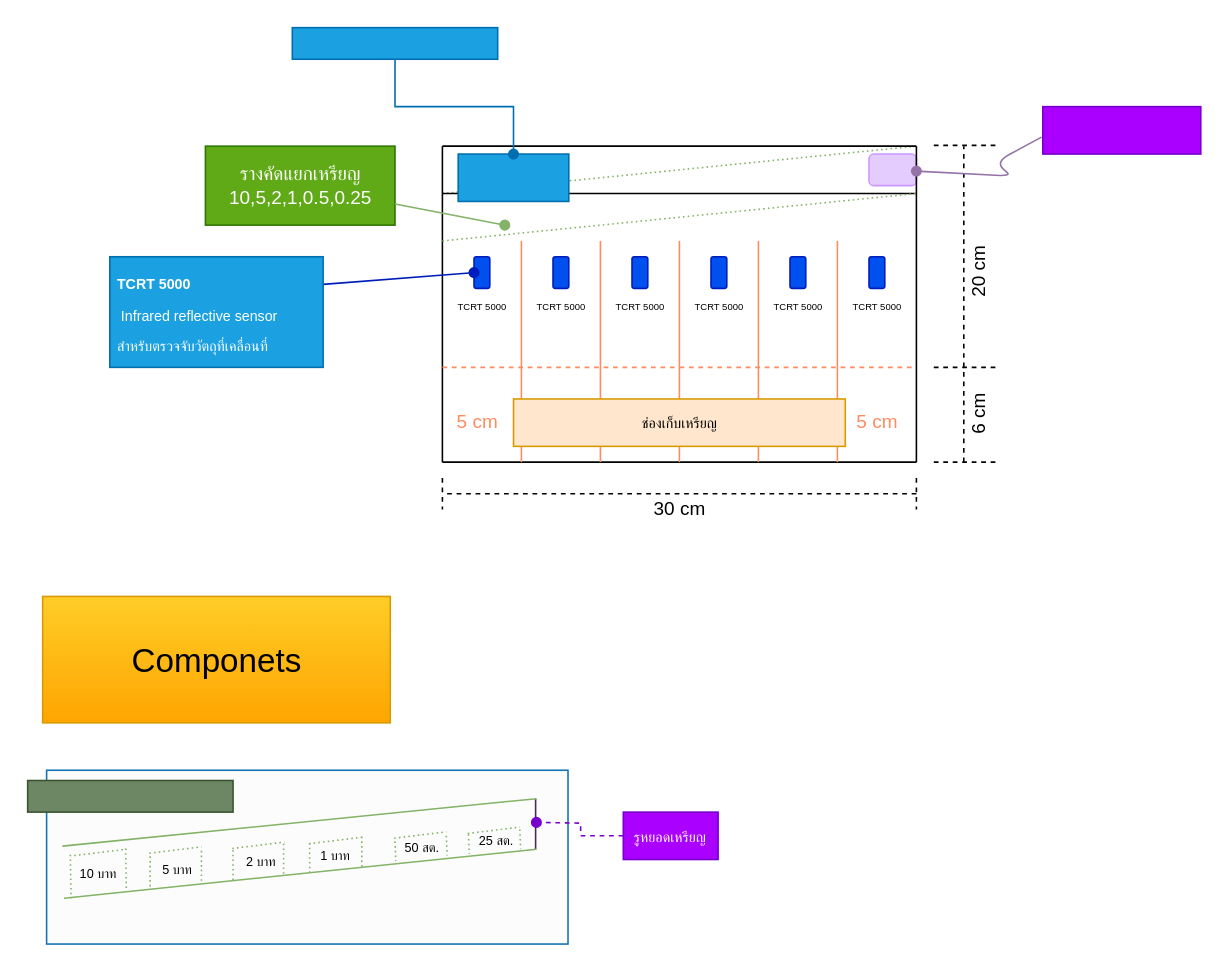
Some shapes in this 1229 by 972 pixel diagram are drawn without their labels. The box of each missing label's shape, as (x1, y1, x2, y2) in pixels:
LCD สำหรับแสดงผล: (291, 26, 498, 59)
Servo Motor สำหรับเปิด/ปิด รูหยอดเหรียญ: (1041, 105, 1201, 154)
รางแยกเหรียญ: (26, 779, 233, 812)
